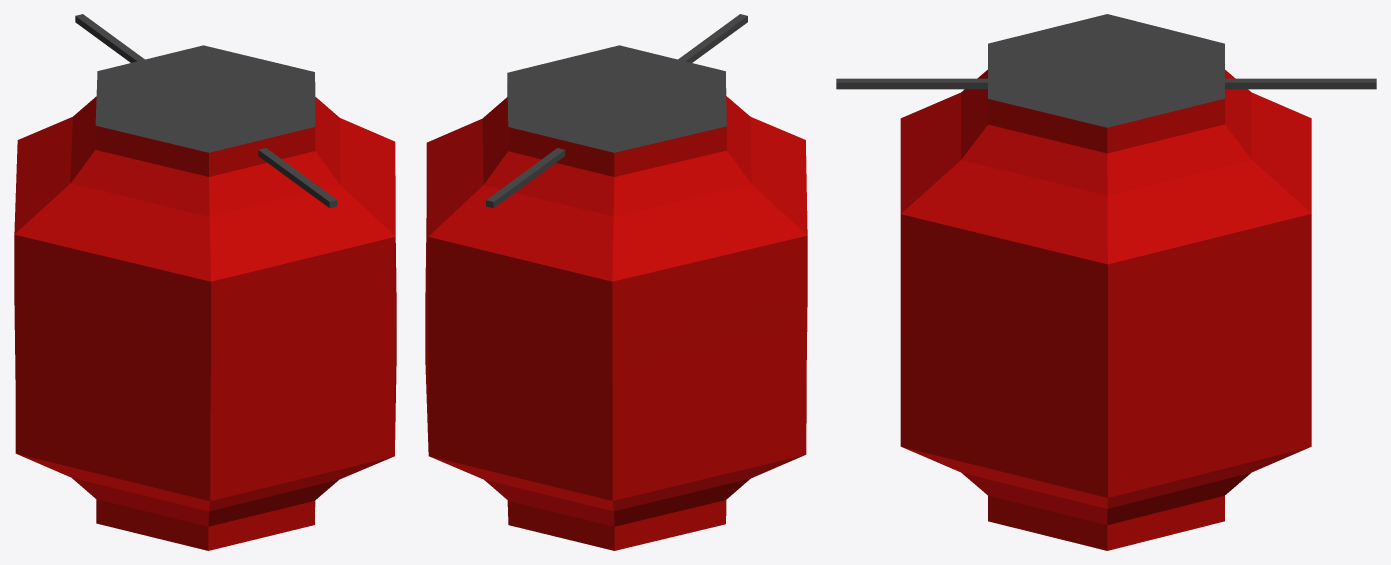
The model's file is LanternB.fbx.
3 renders of one model, left to right at view 1: azimuth 30°, elevation 25°; view 2: azimuth 150°, elevation 25°; view 3: azimuth 270°, elevation 25°, orthographic. The views are drawn at different scales.
Parts seen in each view (by area): view 1: Lantern2.001; view 2: Lantern2.001; view 3: Lantern2.001.
Boxes of the visible parts, x1=… form: Lantern2.001: x1=14, y1=14, x2=396, y2=550; Lantern2.001: x1=425, y1=14, x2=807, y2=550; Lantern2.001: x1=836, y1=14, x2=1376, y2=550.
Bounding box in the file's own units: 224 × 223 × 258.
